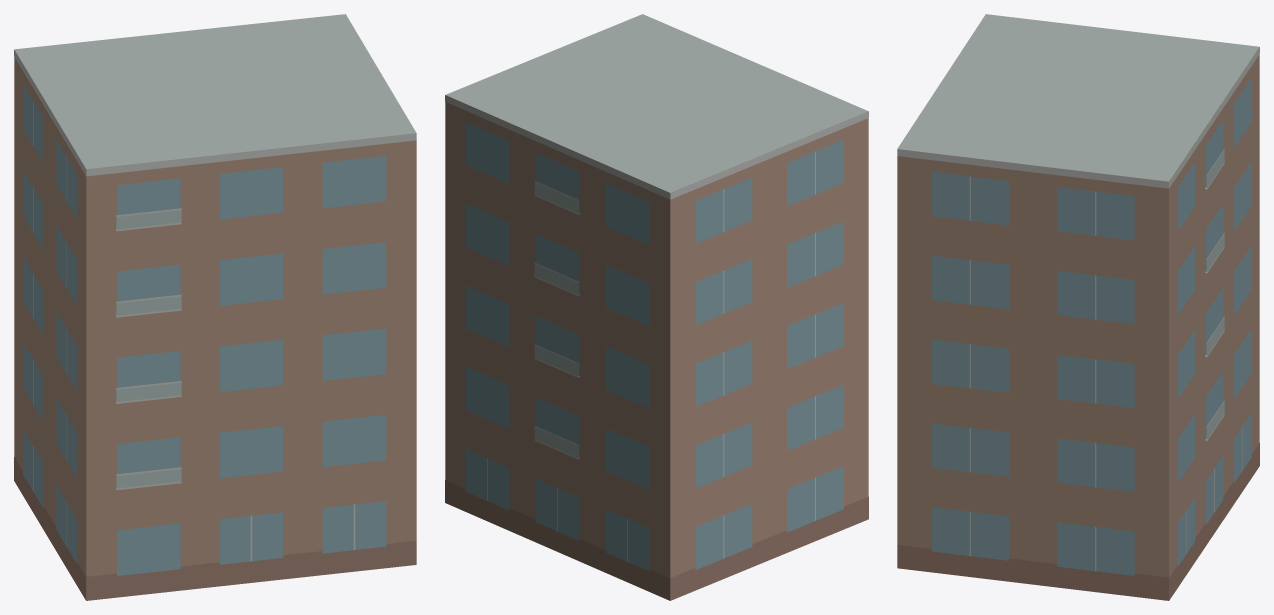
The model's file is survey-upis-32877762.glb.
The picture shows the model from 3 angles, left to right: view 1: azimuth 30°, elevation 25°; view 2: azimuth 150°, elevation 25°; view 3: azimuth 270°, elevation 25°; orthographic projection. The views are drawn at different scales.
Parts seen in each view (by area): view 1: survey-upis-32877762.tmp; view 2: survey-upis-32877762.tmp; view 3: survey-upis-32877762.tmp.
Boxes of the visible parts, x1,y1,x2,y2 form: survey-upis-32877762.tmp: [14, 14, 416, 600]; survey-upis-32877762.tmp: [445, 14, 868, 600]; survey-upis-32877762.tmp: [897, 14, 1259, 600].
Bounding box in the file's own units: 12.67 × 14.75 × 11.57.
